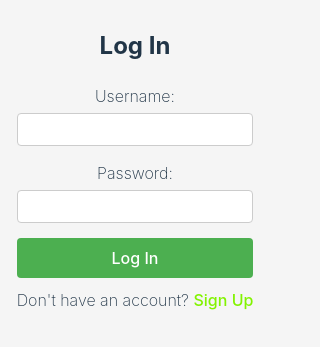
Scenario: Login Component › displays an error message when login fails
Type "wronguser" into the field labelled "Username:" at (135, 129), box [17,113,253,146]
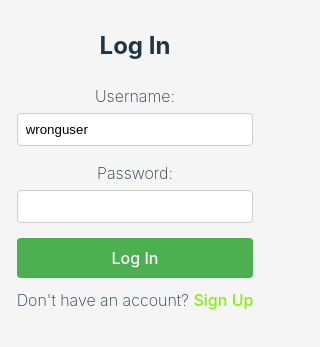
Type "wrongpassword" into the password field labelled "Password:" at (135, 206), box [17,190,253,223]
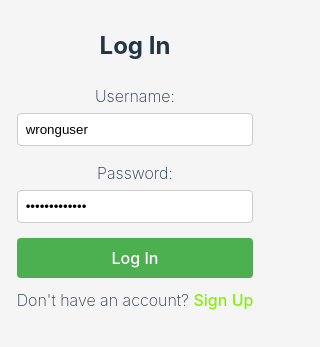
Click the button "Log In" at (135, 258), box [17,238,253,278]
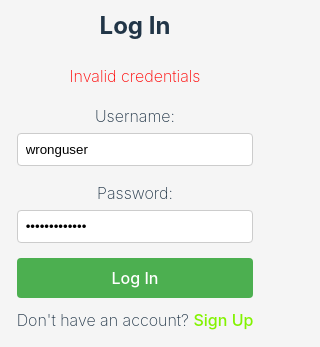
Now the text "Invalid credentials" is shown, box [70,66,200,86]
